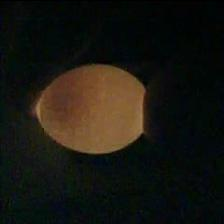infertile: (35, 60, 149, 154)
